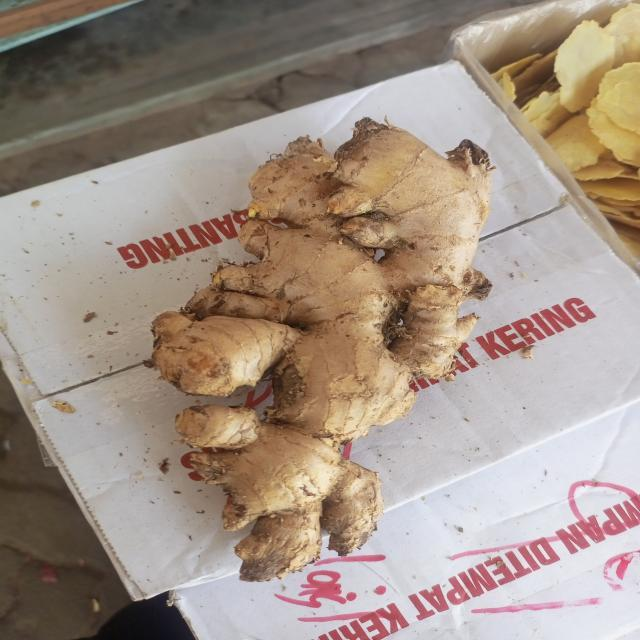ginger: (157, 118, 486, 572)
